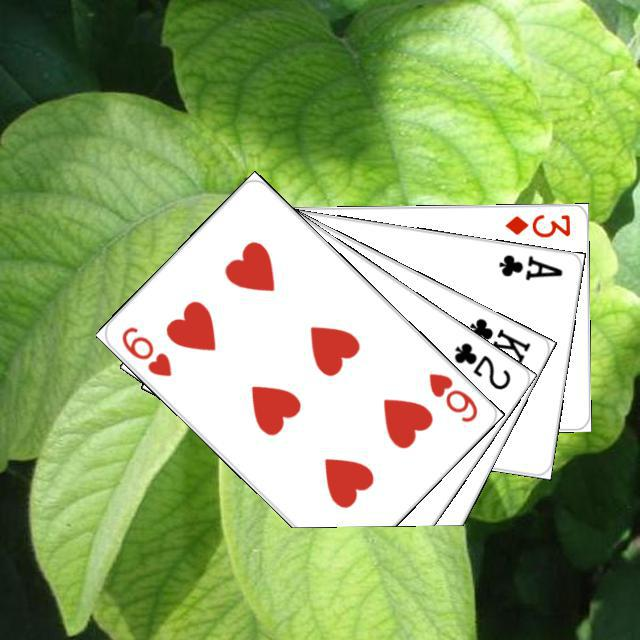2c: (448, 337, 513, 392)
3d: (500, 209, 572, 239)
6h: (116, 321, 174, 378), (423, 368, 480, 424)
Ac: (493, 249, 565, 282)
Kc: (451, 312, 532, 367)
